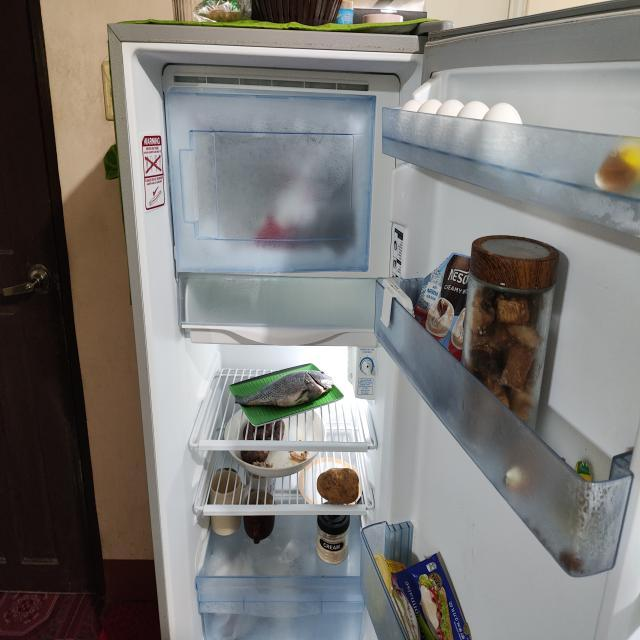egg: (396, 97, 523, 175)
fish: (234, 367, 336, 415)
potato: (316, 466, 359, 509)
